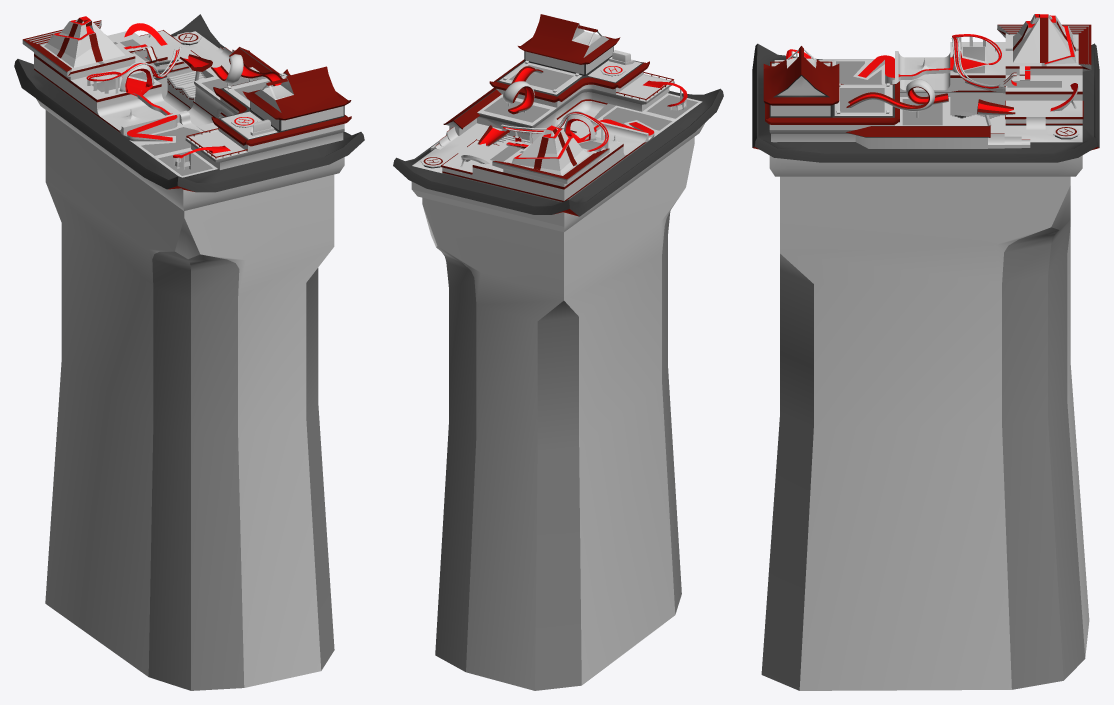
File: Skatepark.glb
3 views of the same model, side by side, from view 1: azimuth 30°, elevation 25°; view 2: azimuth 150°, elevation 25°; view 3: azimuth 270°, elevation 25° (orthographic). The views are drawn at different scales.
Visible parts, largest first — view 1: BuildingBase, Skatepark Castle Visuals, Pyramid, LoopDeLoop-col, PyramidNet-col, Stairpit-col; view 2: BuildingBase, Skatepark Castle Visuals, Pyramid, PyramidNet-col, LoopDeLoop-col, Low-Wall-col; view 3: BuildingBase, Skatepark Castle Visuals, Low-Wall-col, Pyramid, LoopDeLoop-col, PyramidNet-col, Stairpit-col.
Part boxes in pixels (x1=…): BuildingBase: x1=45, y1=110, x2=334, y2=690; Skatepark Castle Visuals: x1=14, y1=14, x2=364, y2=210; Pyramid: x1=44, y1=16, x2=124, y2=67; LoopDeLoop-col: x1=211, y1=54, x2=282, y2=86; PyramidNet-col: x1=22, y1=20, x2=101, y2=76; Stairpit-col: x1=167, y1=71, x2=205, y2=102; BuildingBase: x1=422, y1=137, x2=694, y2=690; Skatepark Castle Visuals: x1=393, y1=14, x2=723, y2=231; Pyramid: x1=511, y1=125, x2=588, y2=175; PyramidNet-col: x1=492, y1=148, x2=609, y2=183; LoopDeLoop-col: x1=502, y1=66, x2=543, y2=114; Low-Wall-col: x1=443, y1=88, x2=501, y2=135; BuildingBase: x1=761, y1=176, x2=1089, y2=690; Skatepark Castle Visuals: x1=752, y1=33, x2=1099, y2=176; Low-Wall-col: x1=846, y1=125, x2=990, y2=148; Pyramid: x1=1013, y1=14, x2=1076, y2=64; LoopDeLoop-col: x1=846, y1=79, x2=948, y2=117; PyramidNet-col: x1=997, y1=24, x2=1091, y2=71; Stairpit-col: x1=950, y1=113, x2=1005, y2=125.
Size of what is drawn, in the model's own units: 118 by 346 by 178.
